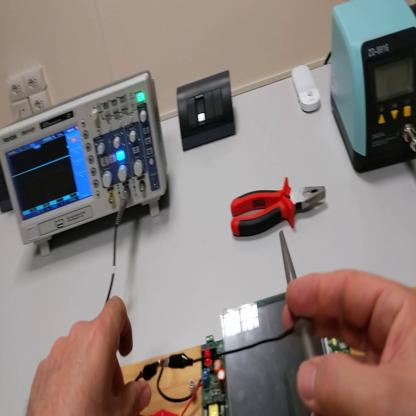hand: (284, 268, 416, 415), (28, 293, 152, 416)
low voltage board: (157, 289, 357, 414)
oscilloscope: (1, 64, 172, 259)
oscilloscope probe tip: (280, 228, 317, 360)
pliers: (231, 179, 330, 242)
socket: (1, 164, 14, 217)
welder station: (332, 3, 416, 175)
